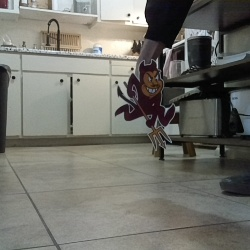sparky: (113, 58, 175, 151)
